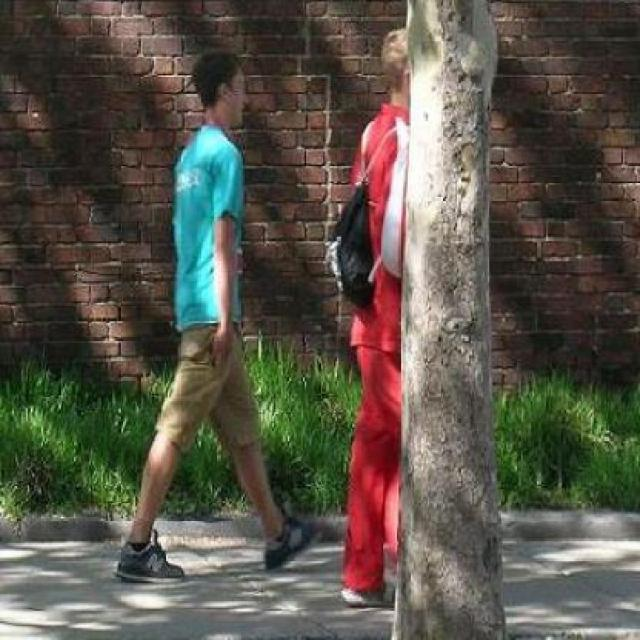Person: (111, 43, 324, 594), (342, 7, 404, 608)
